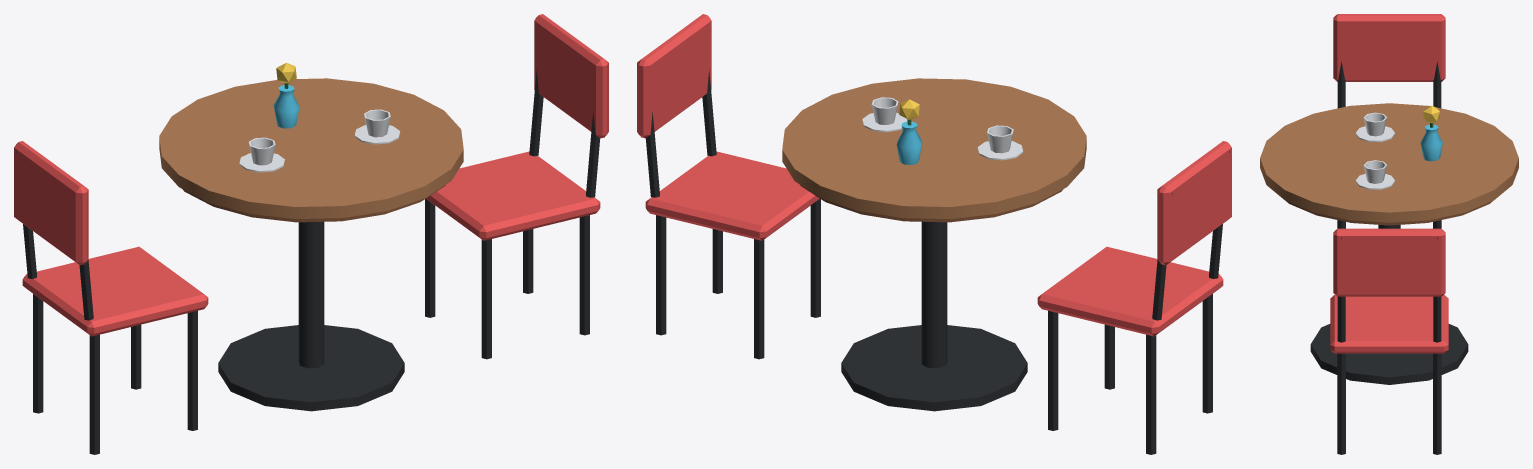
File: table_set.glb
The picture shows the model from 3 angles, left to right: view 1: azimuth 30°, elevation 25°; view 2: azimuth 150°, elevation 25°; view 3: azimuth 270°, elevation 25°; orthographic projection. The views are drawn at different scales.
Visible parts, largest first — view 1: table_set; view 2: table_set; view 3: table_set.
Part boxes in pixels (left/top/right/bottom): table_set: left=14, top=14, right=608, bottom=454; table_set: left=637, top=14, right=1231, bottom=454; table_set: left=1260, top=14, right=1518, bottom=454.
Size of the model in its own units: 1.85 by 0.965 by 0.92.
